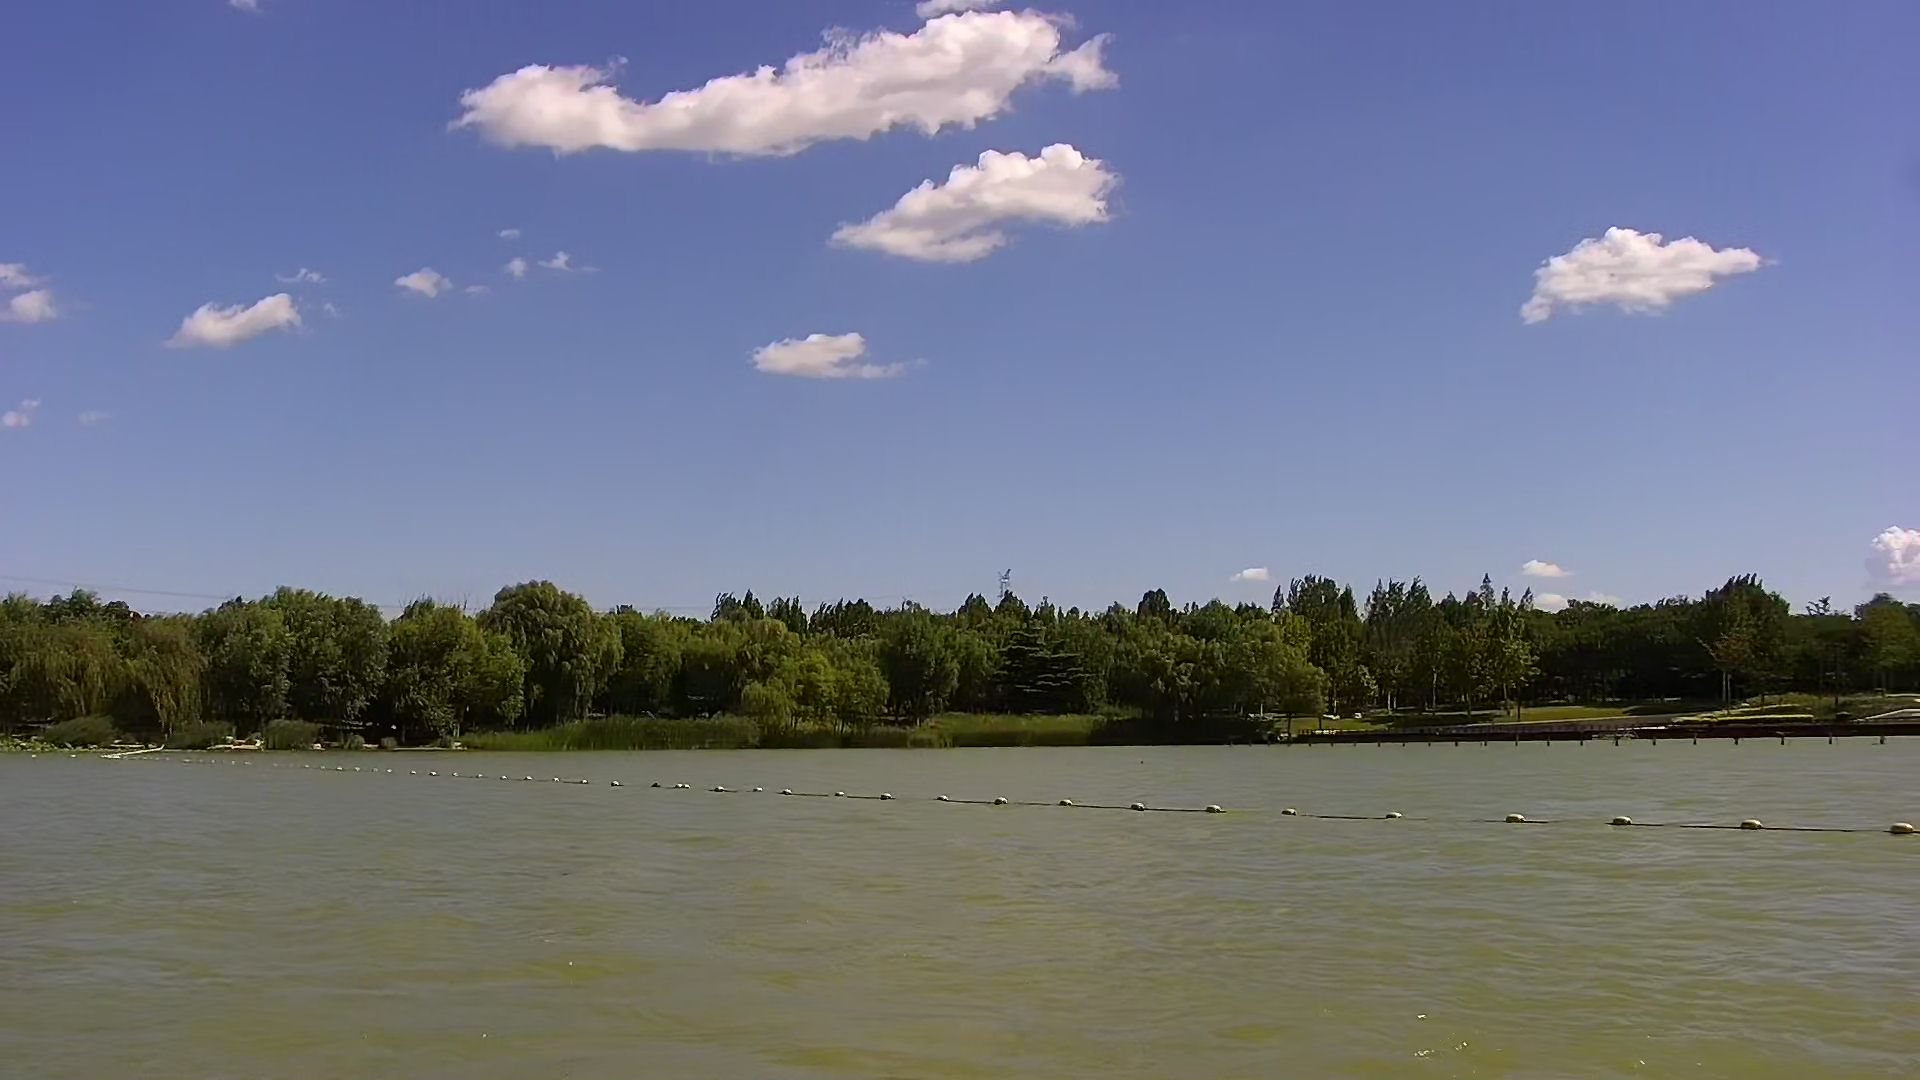ball: (1485, 796, 1547, 836), (1369, 794, 1420, 837), (1269, 790, 1315, 837), (1724, 798, 1775, 840), (1600, 804, 1648, 840), (1883, 800, 1920, 843), (1121, 786, 1155, 828), (1199, 798, 1240, 824)
